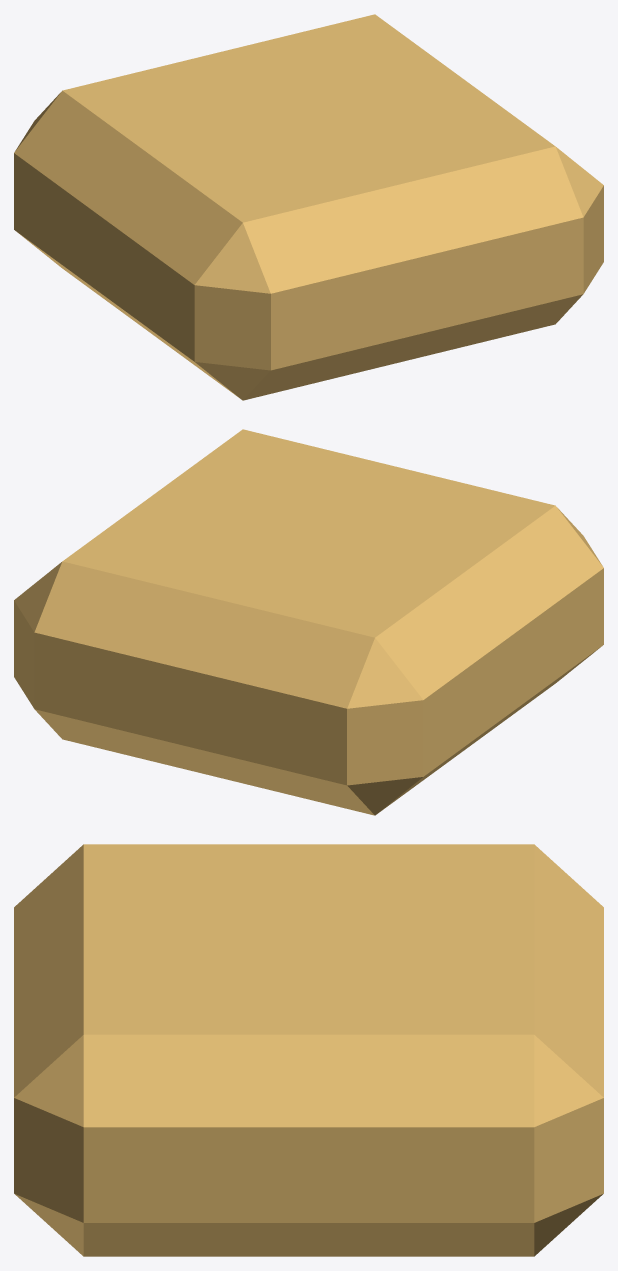
Rendered from 01_turret_repair_aegis.glb.
The picture shows the model from 3 angles, top to bottom: view 1: azimuth 30°, elevation 25°; view 2: azimuth 150°, elevation 25°; view 3: azimuth 270°, elevation 25°; orthographic projection. The views are drawn at different scales.
Parts seen in each view (by area): view 1: 01_turret_repair_aegis; view 2: 01_turret_repair_aegis; view 3: 01_turret_repair_aegis.
Boxes of the visible parts, x1,y1,x2,y2 form: 01_turret_repair_aegis: (14,14,603,400); 01_turret_repair_aegis: (14,429,603,815); 01_turret_repair_aegis: (14,844,603,1256).
Size of the model in its own units: 1 by 0.4154 by 1.
